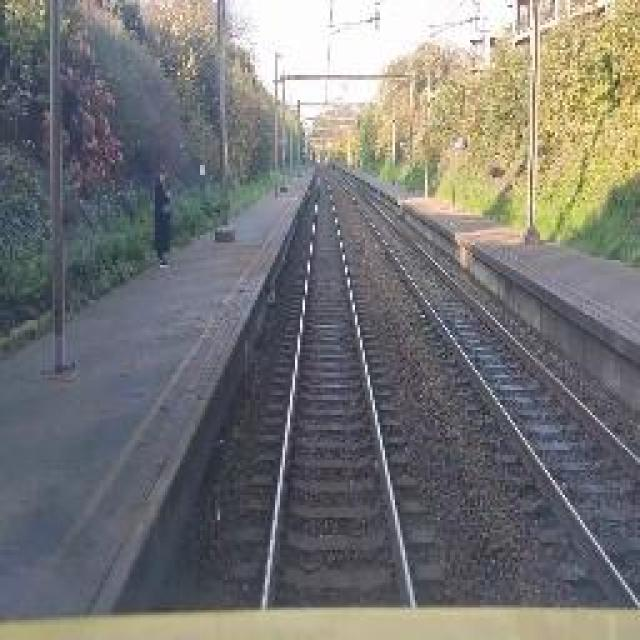rail: (215, 171, 438, 612)
